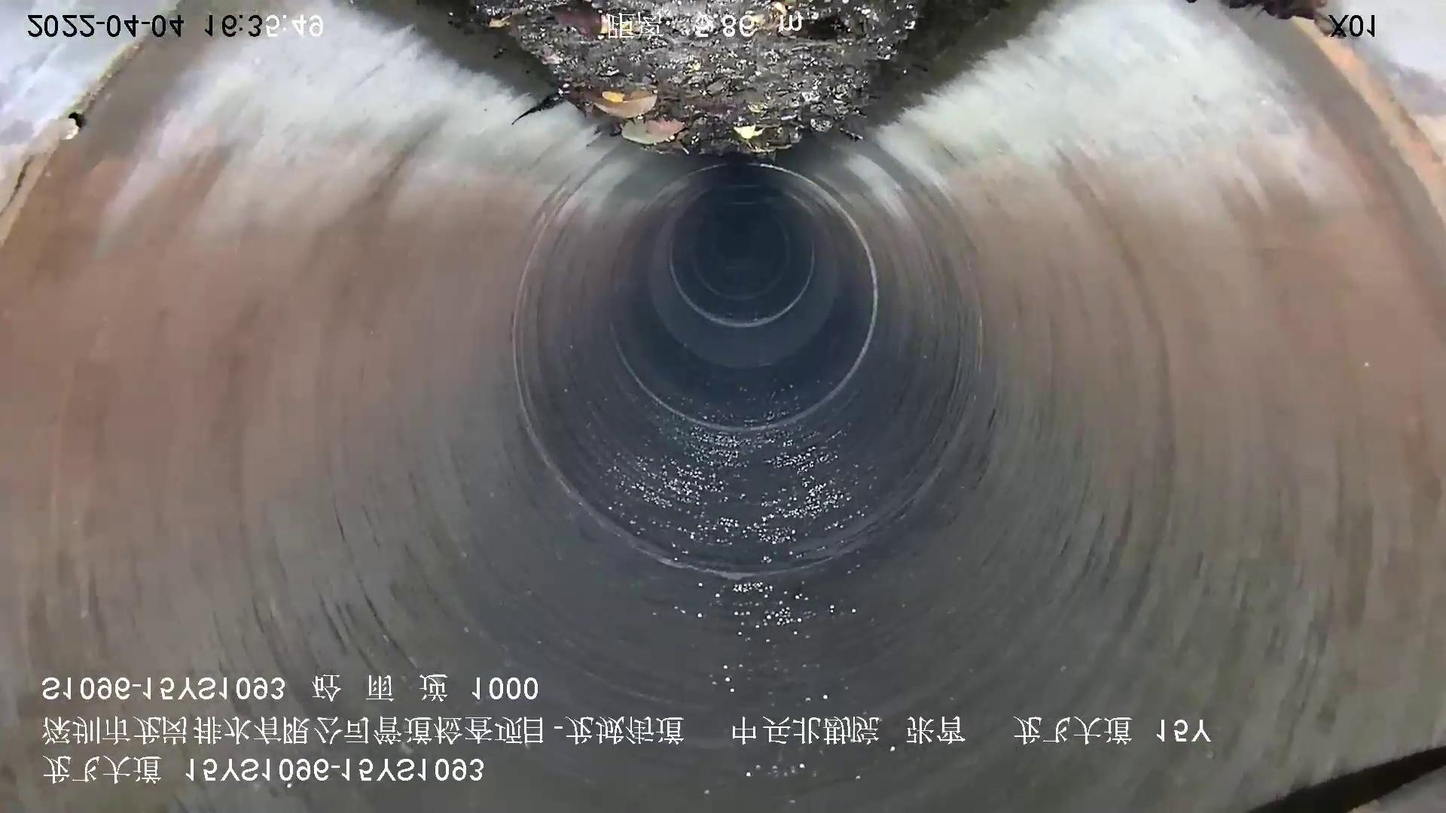CJ: (453, 1, 997, 158)
CKTJ: (605, 159, 884, 436), (662, 219, 820, 330)
